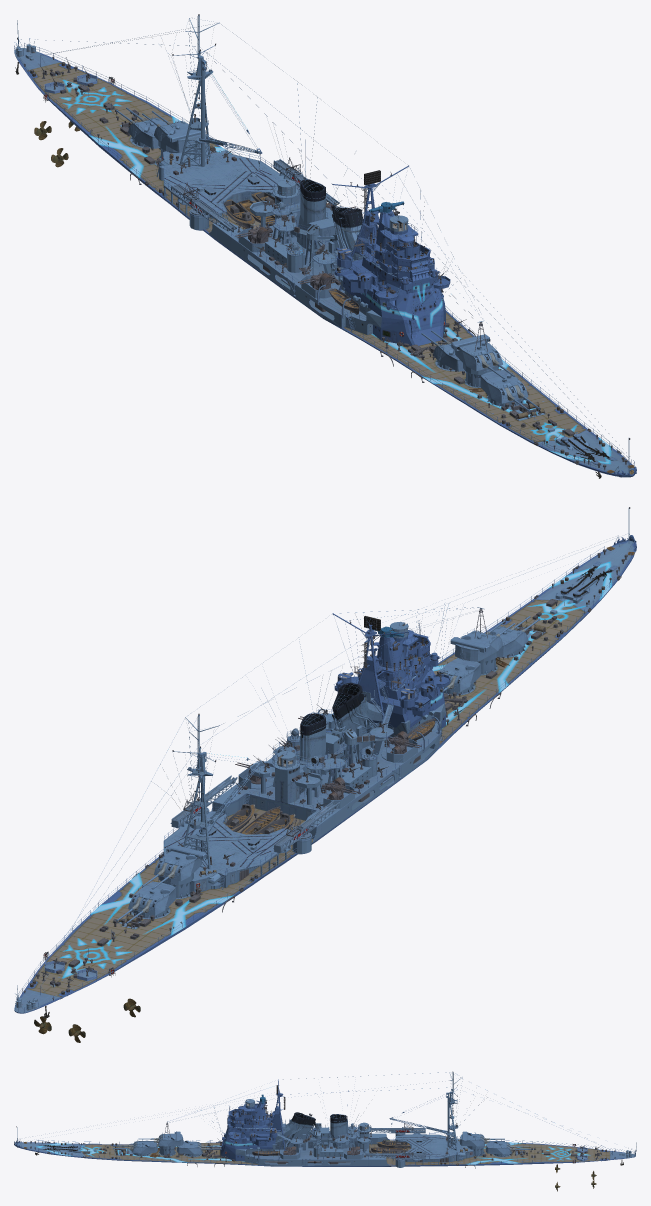
The model's file is takao-parts-catalog.glb.
The picture shows the model from 3 angles, top to bottom: view 1: azimuth 30°, elevation 25°; view 2: azimuth 150°, elevation 25°; view 3: azimuth 270°, elevation 25°; orthographic projection. The views are drawn at different scales.
Visible parts, largest first — view 1: MidFront_DeckHouseShape, Detached_MidBackShape, MidBack_DeckHouseShape, Detached_MidFrontShape, Detached_BowShape, Detached_SternShape, MidFront_wireShape, MidFront_patch_MidBack_DeckHouseShape, TurretShape7, TurretShape2, MidBack_wireShape, Detached_MidBack_patch_SternShape (+5 smaller); view 2: Detached_MidBackShape, MidFront_DeckHouseShape, MidBack_DeckHouseShape, Detached_BowShape, Detached_MidFrontShape, Detached_SternShape, MidBack_wireShape, MidFront_patch_MidBack_DeckHouseShape, TurretShape8, TurretShape7, TurretShape1, MidFront_wireShape (+5 smaller); view 3: MidFront_DeckHouseShape, Detached_MidBackShape, MidBack_DeckHouseShape, Detached_MidFrontShape, Detached_BowShape, Detached_SternShape, MidFront_patch_MidBack_DeckHouseShape, MidBack_wireShape, TurretShape7, TurretShape8, TurretShape, TurretShape1 (+8 smaller).
Part boxes in pixels (left/top/right/bottom): MidFront_DeckHouseShape: left=301, top=165, right=450, bottom=345; Detached_MidBackShape: left=73, top=15, right=328, bottom=278; MidBack_DeckHouseShape: left=158, top=150, right=333, bottom=260; Detached_MidFrontShape: left=286, top=213, right=549, bottom=415; Detached_BowShape: left=499, top=410, right=636, bottom=477; Detached_SternShape: left=14, top=20, right=129, bottom=111; MidFront_wireShape: left=312, top=168, right=540, bottom=408; MidFront_patch_MidBack_DeckHouseShape: left=278, top=214, right=340, bottom=272; TurretShape7: left=451, top=334, right=514, bottom=379; TurretShape2: left=480, top=367, right=540, bottom=411; MidBack_wireShape: left=81, top=16, right=340, bottom=261; Detached_MidBack_patch_SternShape: left=61, top=93, right=148, bottom=122; Detached_MidBackShape: left=73, top=715, right=372, bottom=950; MidFront_DeckHouseShape: left=320, top=613, right=450, bottom=762; MidBack_DeckHouseShape: left=159, top=713, right=362, bottom=892; Detached_BowShape: left=500, top=508, right=636, bottom=637; Detached_MidFrontShape: left=317, top=607, right=549, bottom=782; Detached_SternShape: left=14, top=944, right=130, bottom=1013; MidBack_wireShape: left=81, top=712, right=368, bottom=942; MidFront_patch_MidBack_DeckHouseShape: left=287, top=714, right=377, bottom=783; TurretShape8: left=142, top=844, right=206, bottom=889; TurretShape7: left=450, top=620, right=514, bottom=661; TurretShape1: left=116, top=879, right=176, bottom=923; MidFront_wireShape: left=315, top=607, right=540, bottom=748; MidFront_DeckHouseShape: left=220, top=1079, right=315, bottom=1160; Detached_MidBackShape: left=330, top=1072, right=541, bottom=1167; MidBack_DeckHouseShape: left=329, top=1114, right=473, bottom=1165; Detached_MidFrontShape: left=130, top=1100, right=309, bottom=1166; Detached_BowShape: left=14, top=1127, right=116, bottom=1160; Detached_SternShape: left=557, top=1142, right=636, bottom=1163; MidFront_patch_MidBack_DeckHouseShape: left=306, top=1121, right=330, bottom=1157; MidBack_wireShape: left=330, top=1072, right=541, bottom=1164; TurretShape7: left=138, top=1131, right=183, bottom=1146; TurretShape8: left=459, top=1131, right=504, bottom=1146; TurretShape: left=176, top=1140, right=221, bottom=1154; TurretShape1: left=485, top=1140, right=530, bottom=1154.
Size of the model in its own units: 15.49 by 27.25 by 136.
75 materials, 75 textured.
